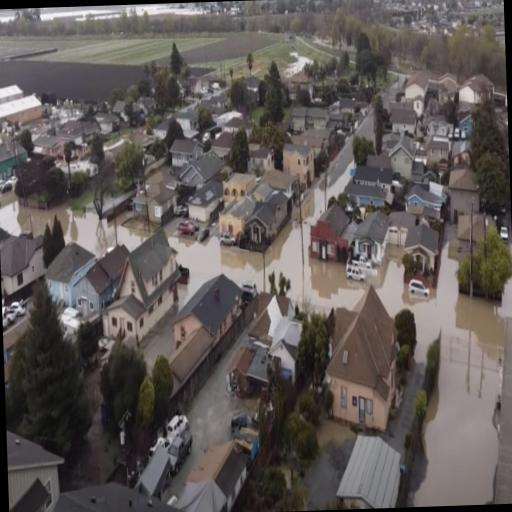flood: (301, 175, 512, 505), (164, 219, 263, 306), (58, 367, 120, 492), (184, 343, 244, 458), (0, 199, 114, 257), (264, 208, 302, 307), (139, 308, 176, 374), (327, 134, 353, 199), (115, 215, 147, 249), (356, 109, 373, 138)
house: (316, 281, 406, 449), (108, 226, 185, 336), (76, 232, 136, 348), (171, 271, 244, 365), (38, 476, 207, 512), (171, 441, 249, 512), (336, 429, 404, 509), (6, 426, 65, 512), (220, 180, 290, 252), (44, 238, 100, 326), (1, 219, 45, 308), (12, 153, 68, 209), (344, 206, 390, 272), (395, 217, 442, 281), (266, 311, 302, 393), (308, 198, 350, 268), (350, 152, 396, 209), (134, 172, 179, 227), (444, 164, 480, 224), (0, 86, 42, 137), (406, 178, 448, 224), (280, 136, 316, 189), (166, 134, 204, 178), (178, 149, 220, 188), (458, 72, 494, 116), (388, 138, 414, 180), (425, 136, 450, 170), (402, 69, 428, 98), (390, 108, 417, 135), (305, 108, 328, 130), (178, 107, 196, 132), (98, 111, 118, 133), (338, 96, 354, 115), (188, 78, 200, 96)
